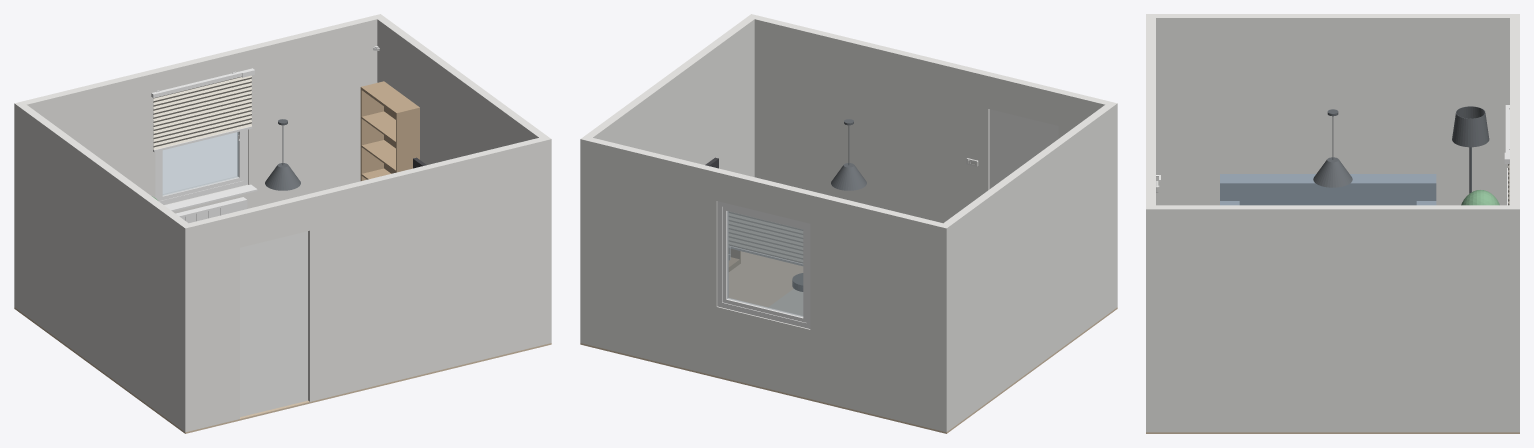
File: room.glb
3 renders of one model, left to right at view 1: azimuth 30°, elevation 25°; view 2: azimuth 150°, elevation 25°; view 3: azimuth 270°, elevation 25°, orthographic. The views are drawn at different scales.
Parts seen in each view (by area): view 1: wall_south, wall_west, wall_north, door, wall_east, blind_fabric, bookshelf, window_glass, window_frame, floor, window_sash, radiator (+2 smaller); view 2: wall_north, wall_south, wall_west, wall_east, window_glass, floor, door, blind_fabric, window_frame, window_sash, pendant_lamp, rug; view 3: wall_east, wall_west, sofa, wall_north, wall_south, floor_lamp, pendant_lamp, floor, plant.
Boxes of the visible parts, x1,y1,x2,y2 form: wall_south: (181,136,551,432); wall_west: (19,105,187,428); wall_north: (14,14,384,310); door: (240,231,307,416); wall_east: (377,17,546,164); blind_fabric: (153,75,251,149); bookshelf: (360,81,419,180); window_glass: (162,132,238,195); window_frame: (155,129,257,211); floor: (14,307,551,433); window_sash: (159,131,243,200); radiator: (175,197,247,223); wall_north: (580,136,950,432); wall_south: (747,14,1117,310); wall_west: (944,105,1112,428); wall_east: (585,17,754,176); window_glass: (727,211,803,316); floor: (580,251,1117,433); door: (989,109,1058,188); blind_fabric: (729,211,802,263); window_frame: (717,201,810,328); window_sash: (722,206,806,322); pendant_lamp: (831,119,866,190); rug: (769,289,802,315); wall_east: (1156,205,1509,432); wall_west: (1156,14,1509,205); sofa: (1220,174,1436,205); wall_north: (1510,14,1519,432); wall_south: (1146,14,1155,432); floor_lamp: (1452,106,1489,193); pendant_lamp: (1313,109,1352,187); floor: (1146,432,1519,433); plant: (1461,190,1499,205).
Size of the model in its own units: 4.7 by 2.52 by 3.8.
